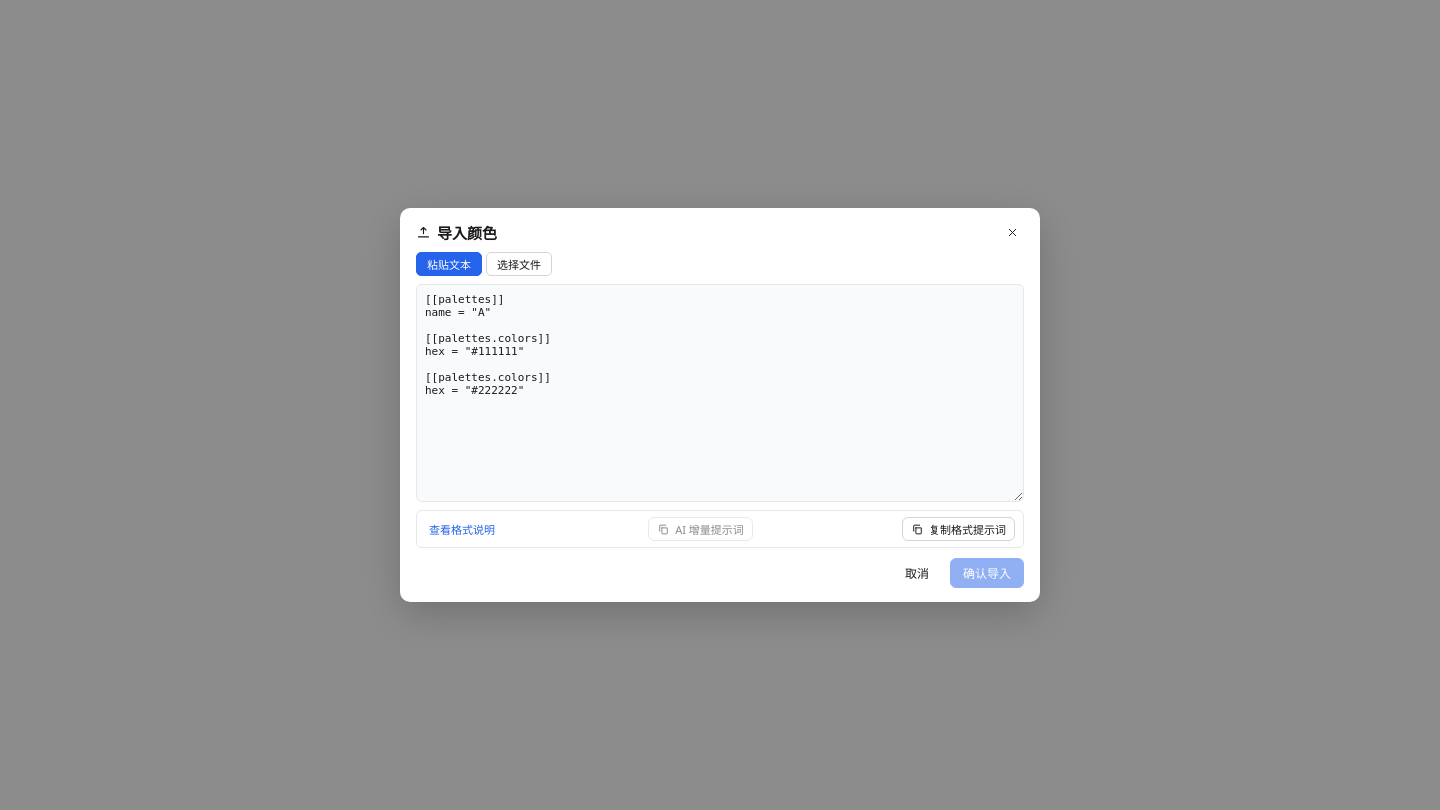
ImportModal: paste + confirm › shows parse summary before confirming
The image size is (1440, 810).
Replace the text in the text box named "TOML 内容" with "[ [palettes]] name = \"A\" [ [palettes.colors]] hex = \"#111111\" [ [palettes.colors]] hex = \"#222222\" " at (720, 393), box [416, 284, 1024, 502]
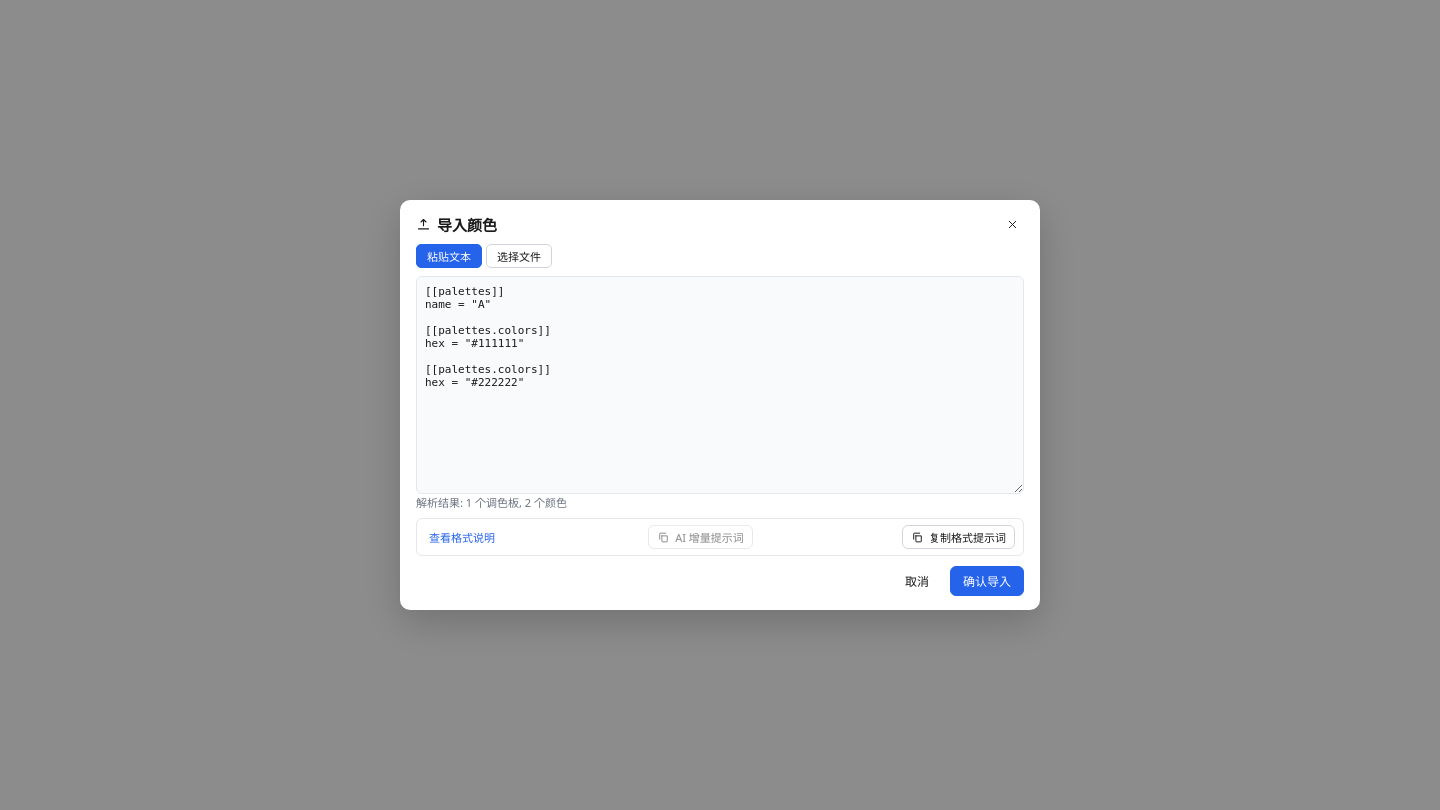
Expected: the text "1 个调色板" is shown, [416, 495, 567, 510]
Expected: the text "2 个颜色" is shown, [416, 495, 567, 510]
